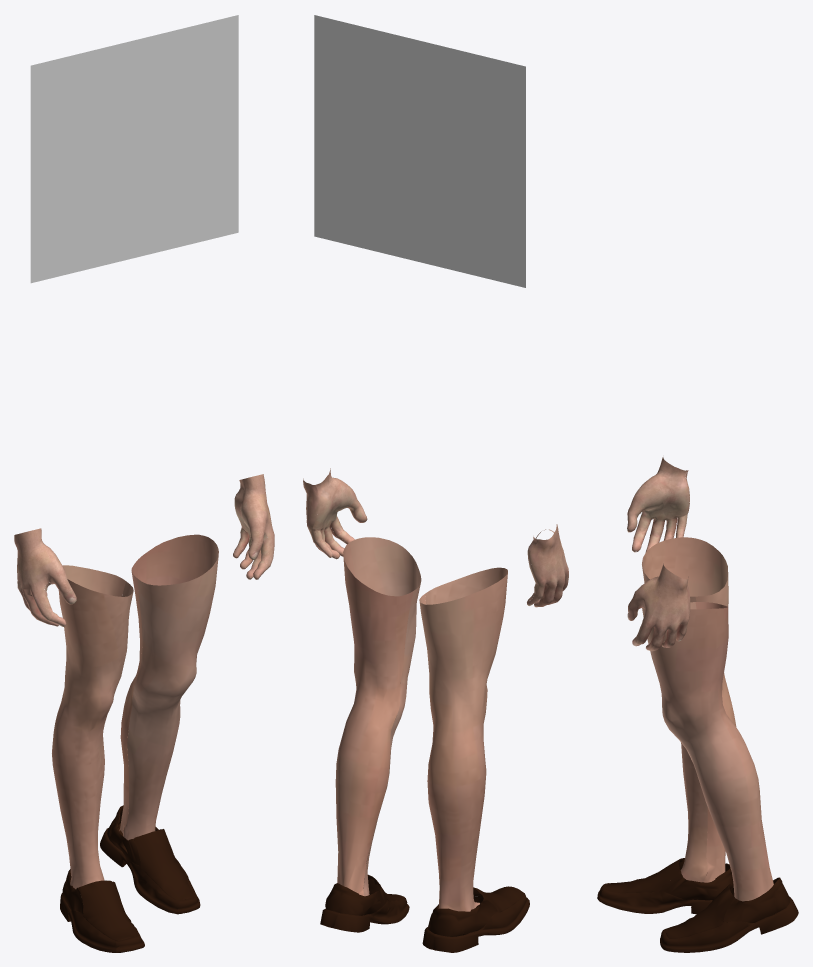
The model's file is male_model_posed2.glb.
3 renders of one model, left to right at view 1: azimuth 30°, elevation 25°; view 2: azimuth 150°, elevation 25°; view 3: azimuth 270°, elevation 25°, orthographic. The views are drawn at different scales.
Visible parts, largest first — view 1: face_plane_front, body_Node.004, body_Node001, shoes.001, shoes; view 2: face_plane_back, body_Node.004, body_Node001, shoes, shoes.001; view 3: body_Node.004, body_Node001, shoes.001, shoes.
Part boxes in pixels (<box>): face_plane_front: <box>30,15,238,283</box>; body_Node.004: <box>52,534,218,889</box>; body_Node001: <box>14,474,274,626</box>; shoes.001: <box>100,805,200,914</box>; shoes: <box>60,869,144,952</box>; face_plane_back: <box>314,15,525,287</box>; body_Node.004: <box>335,537,507,911</box>; body_Node001: <box>303,468,568,607</box>; shoes: <box>422,886,529,952</box>; shoes.001: <box>320,874,409,932</box>; body_Node.004: <box>642,537,773,901</box>; body_Node001: <box>627,457,690,651</box>; shoes.001: <box>660,877,798,952</box>; shoes: <box>597,858,733,914</box>.
Size of what is drawn, in the model's own units: 59.19 by 199 by 42.06.
3 materials, 2 textured.
